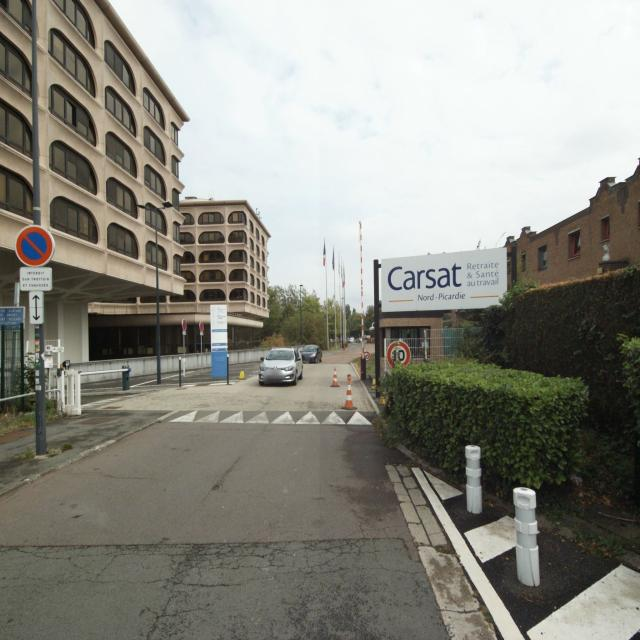forb_stopping: (14, 225, 54, 267)
